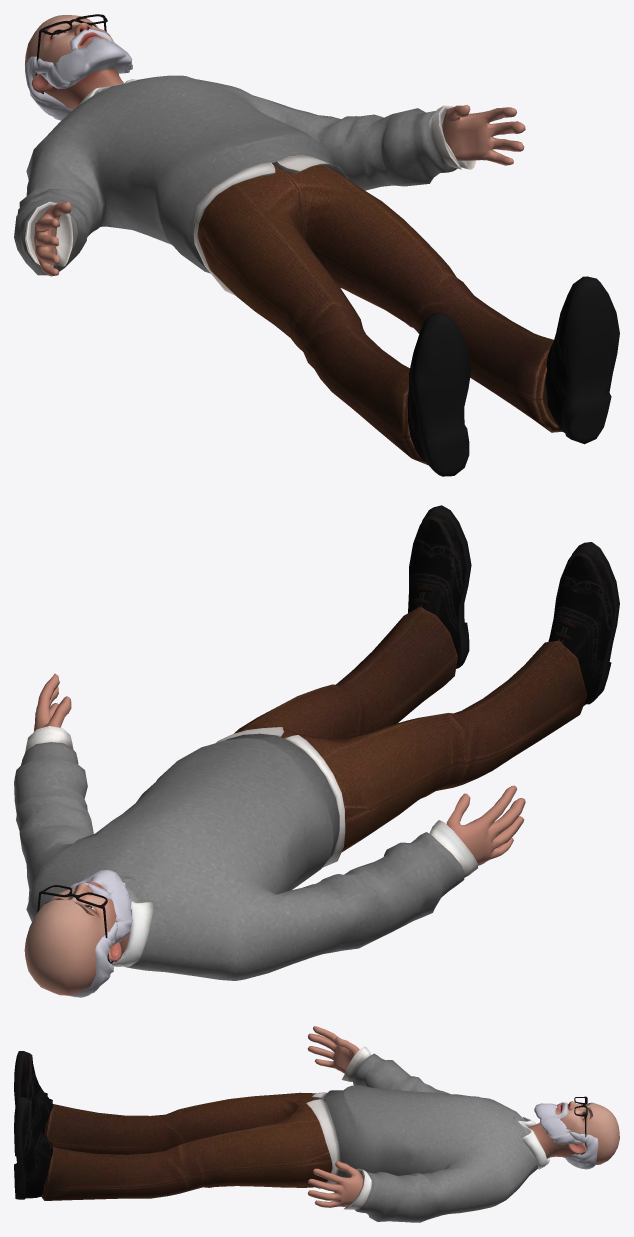
The model's file is Harrison Cole.fbx.
3 renders of one model, top to bottom at view 1: azimuth 30°, elevation 25°; view 2: azimuth 150°, elevation 25°; view 3: azimuth 270°, elevation 25°, orthographic. The views are drawn at different scales.
Visible parts, largest first — view 1: node_73159dbc_b4c1_42ce_abdc_55970f369079_mesh0, node_3aab6c16_9f16_46bd_a157_c8dad2ea7b8d_mesh0, node_87bb5ff9_5d4b_40ea_a939_1e4c52a95491_mesh0, node_4d2d8a2f_dd3f_4446_8648_548bedcd790d_mesh0, node_0b93505a_c31f_4326_b4b5_79c0895a7779_mesh0, node_4be3baa1_293e_4370_bdad_35122ee674c1_mesh0, node_f00135b2_7b62_4215_8f71_8dba115ffeca_mesh0; view 2: node_3aab6c16_9f16_46bd_a157_c8dad2ea7b8d_mesh0, node_73159dbc_b4c1_42ce_abdc_55970f369079_mesh0, node_87bb5ff9_5d4b_40ea_a939_1e4c52a95491_mesh0, node_0b93505a_c31f_4326_b4b5_79c0895a7779_mesh0, node_4d2d8a2f_dd3f_4446_8648_548bedcd790d_mesh0, node_4be3baa1_293e_4370_bdad_35122ee674c1_mesh0, node_f00135b2_7b62_4215_8f71_8dba115ffeca_mesh0; view 3: node_3aab6c16_9f16_46bd_a157_c8dad2ea7b8d_mesh0, node_73159dbc_b4c1_42ce_abdc_55970f369079_mesh0, node_87bb5ff9_5d4b_40ea_a939_1e4c52a95491_mesh0, node_4d2d8a2f_dd3f_4446_8648_548bedcd790d_mesh0, node_0b93505a_c31f_4326_b4b5_79c0895a7779_mesh0, node_4be3baa1_293e_4370_bdad_35122ee674c1_mesh0, node_f00135b2_7b62_4215_8f71_8dba115ffeca_mesh0.
Boxes of the visible parts, left/top/right/bottom form: node_73159dbc_b4c1_42ce_abdc_55970f369079_mesh0: left=197, top=164, right=562, bottom=464; node_3aab6c16_9f16_46bd_a157_c8dad2ea7b8d_mesh0: left=14, top=75, right=476, bottom=295; node_87bb5ff9_5d4b_40ea_a939_1e4c52a95491_mesh0: left=407, top=276, right=619, bottom=476; node_4d2d8a2f_dd3f_4446_8648_548bedcd790d_mesh0: left=34, top=105, right=525, bottom=276; node_0b93505a_c31f_4326_b4b5_79c0895a7779_mesh0: left=25, top=15, right=123, bottom=109; node_4be3baa1_293e_4370_bdad_35122ee674c1_mesh0: left=40, top=28, right=132, bottom=88; node_f00135b2_7b62_4215_8f71_8dba115ffeca_mesh0: left=25, top=56, right=72, bottom=120; node_3aab6c16_9f16_46bd_a157_c8dad2ea7b8d_mesh0: left=14, top=726, right=477, bottom=980; node_73159dbc_b4c1_42ce_abdc_55970f369079_mesh0: left=234, top=607, right=587, bottom=852; node_87bb5ff9_5d4b_40ea_a939_1e4c52a95491_mesh0: left=408, top=505, right=619, bottom=705; node_0b93505a_c31f_4326_b4b5_79c0895a7779_mesh0: left=24, top=881, right=130, bottom=995; node_4d2d8a2f_dd3f_4446_8648_548bedcd790d_mesh0: left=34, top=673, right=525, bottom=865; node_4be3baa1_293e_4370_bdad_35122ee674c1_mesh0: left=70, top=870, right=132, bottom=944; node_f00135b2_7b62_4215_8f71_8dba115ffeca_mesh0: left=26, top=922, right=117, bottom=997; node_3aab6c16_9f16_46bd_a157_c8dad2ea7b8d_mesh0: left=306, top=1046, right=549, bottom=1222; node_73159dbc_b4c1_42ce_abdc_55970f369079_mesh0: left=41, top=1092, right=332, bottom=1200; node_87bb5ff9_5d4b_40ea_a939_1e4c52a95491_mesh0: left=14, top=1051, right=54, bottom=1199; node_4d2d8a2f_dd3f_4446_8648_548bedcd790d_mesh0: left=307, top=1026, right=362, bottom=1207; node_0b93505a_c31f_4326_b4b5_79c0895a7779_mesh0: left=528, top=1101, right=619, bottom=1164; node_4be3baa1_293e_4370_bdad_35122ee674c1_mesh0: left=534, top=1102, right=582, bottom=1144; node_f00135b2_7b62_4215_8f71_8dba115ffeca_mesh0: left=565, top=1131, right=598, bottom=1169.
Size of the model in its own units: 106 by 36.97 by 183.
10 materials, 10 textured.
